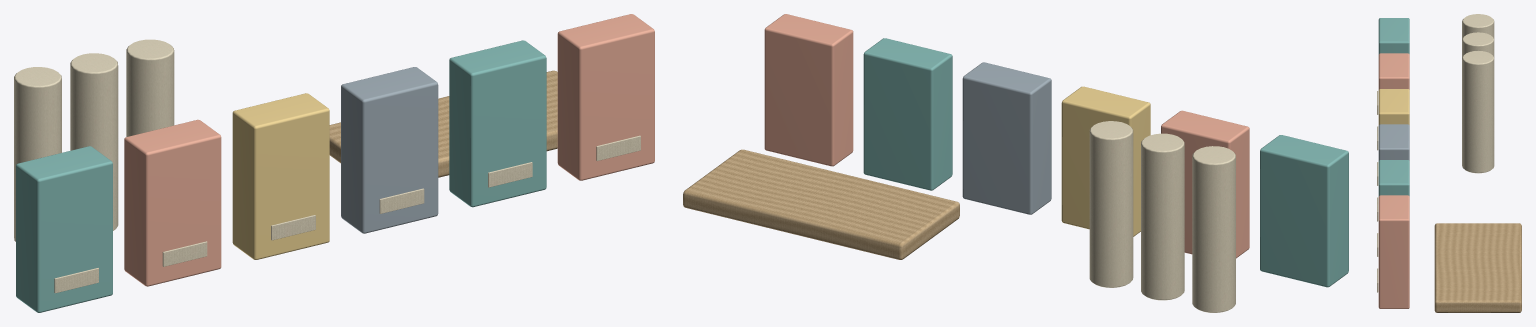
The model's file is sample-display-v1.glb.
The picture shows the model from 3 angles, left to right: view 1: azimuth 30°, elevation 25°; view 2: azimuth 150°, elevation 25°; view 3: azimuth 270°, elevation 25°; orthographic projection. The views are drawn at different scales.
Parts seen in each view (by area): view 1: Upright material sample; view 2: Upright material sample; view 3: Upright material sample.
Boxes of the visible parts, bbox=[...] form: Upright material sample: bbox=[14, 14, 654, 312]; Upright material sample: bbox=[683, 14, 1348, 312]; Upright material sample: bbox=[1377, 14, 1521, 312].
Size of the model in its own units: 1.56 by 0.4025 by 0.465.
6 materials, 2 textured.
